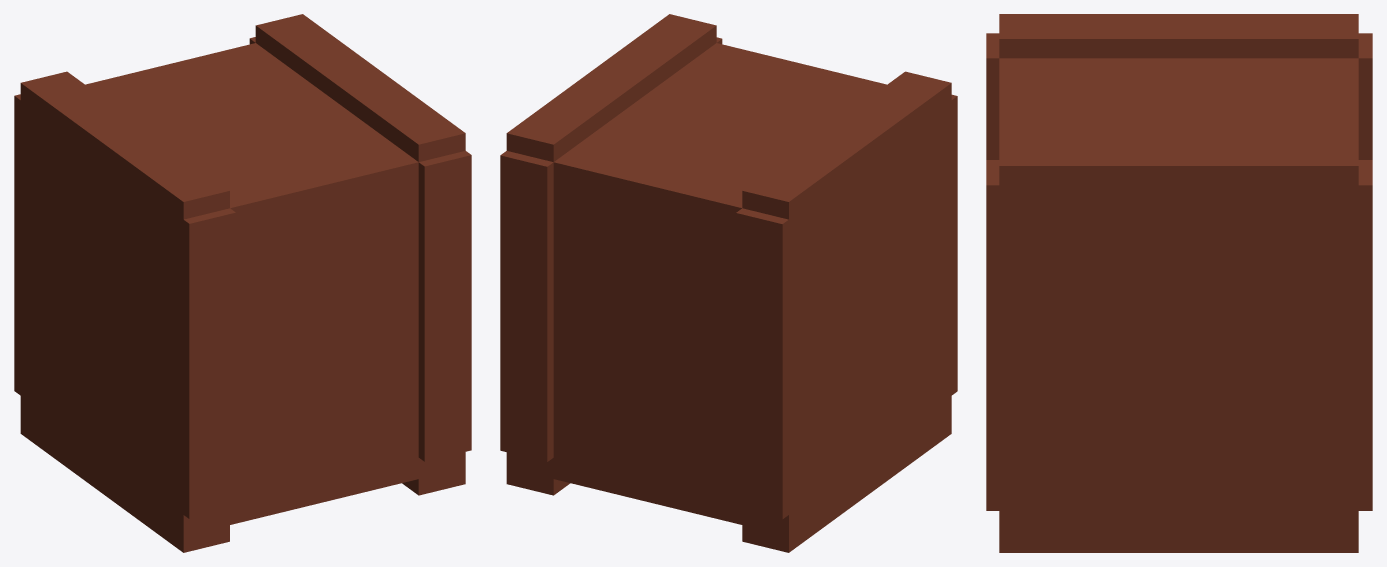
File: Crate 2.fbx
3 views of the same model, side by side, from view 1: azimuth 30°, elevation 25°; view 2: azimuth 150°, elevation 25°; view 3: azimuth 270°, elevation 25° (orthographic). The views are drawn at different scales.
Visible parts, largest first — view 1: Crate; view 2: Crate; view 3: Crate.
Boxes of the visible parts, x1,y1,x2,y2 form: Crate: (14,14,471,552); Crate: (500,14,957,552); Crate: (986,14,1372,552).
Size of the model in its own units: 100 by 119 by 107.
